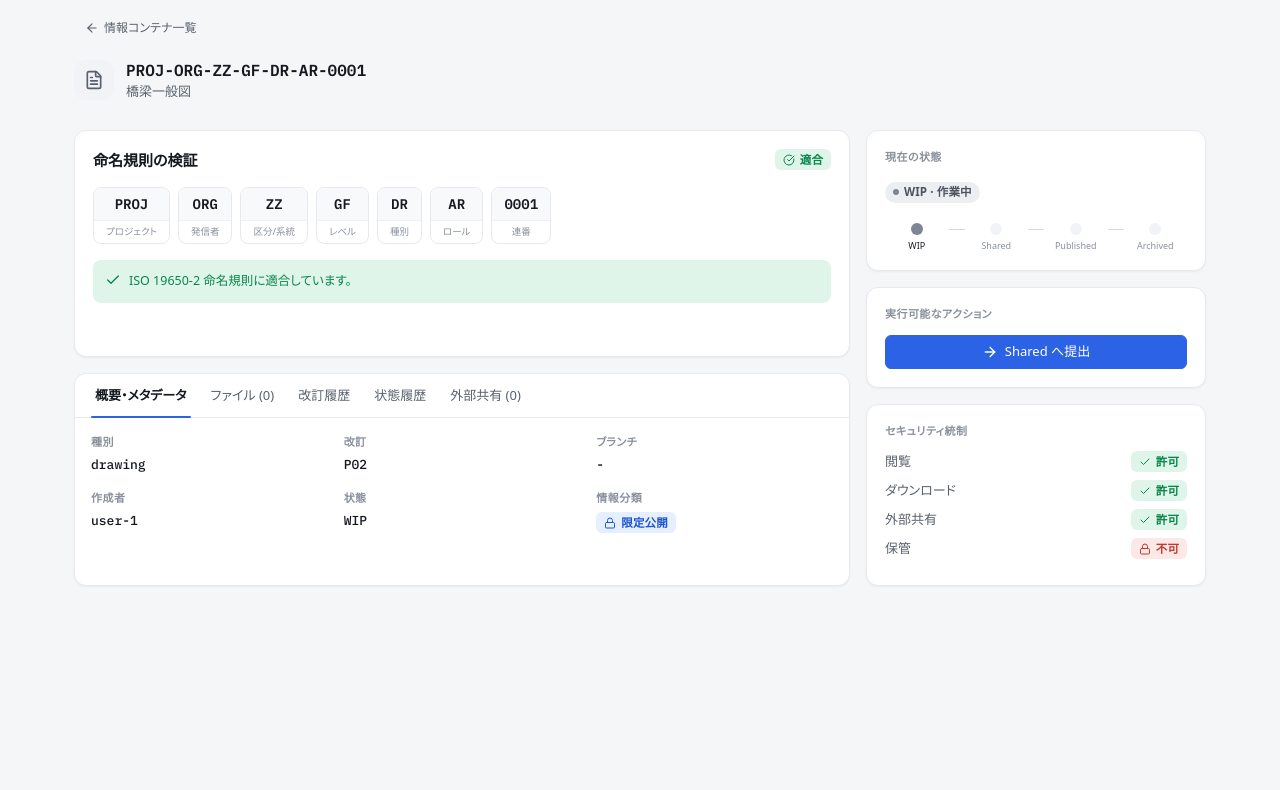
ContainerDetailPage - revision diff (Issue #52) › 改訂版比較UIから差分APIが呼ばれ、結果テーブルが表示される
Switch to the revisions tab.
Click the button "改訂履歴" at (324, 395), box [286,374,362,417]
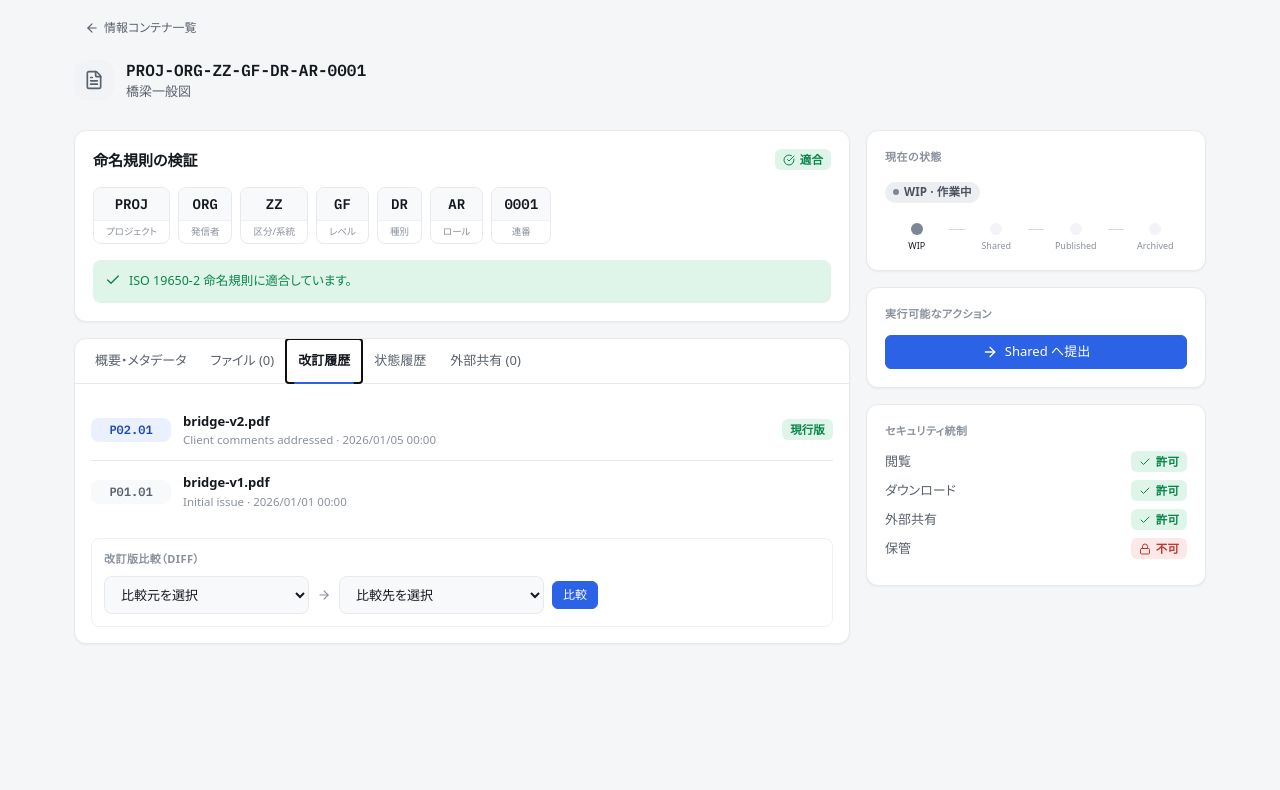
expect the text "改訂版比較（Diff）" is shown: met, box [104,551,199,566]
Select "P01.01 (2026/01/01 00:00)" in the dropdown named "比較元の改訂" at (206, 594), box [104,576,309,614]
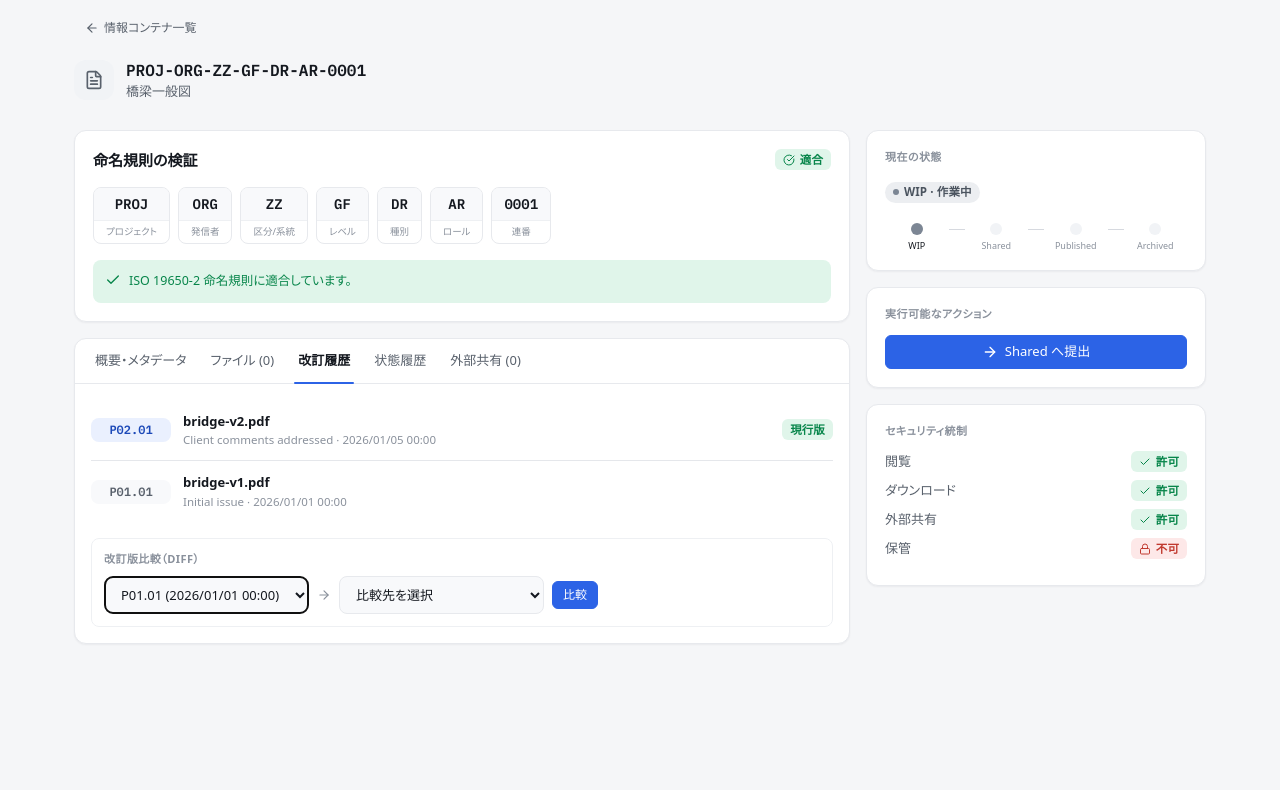
Select "P02.01 (2026/01/05 00:00)" in the dropdown named "比較先の改訂" at (442, 594), box [339,576,544,614]
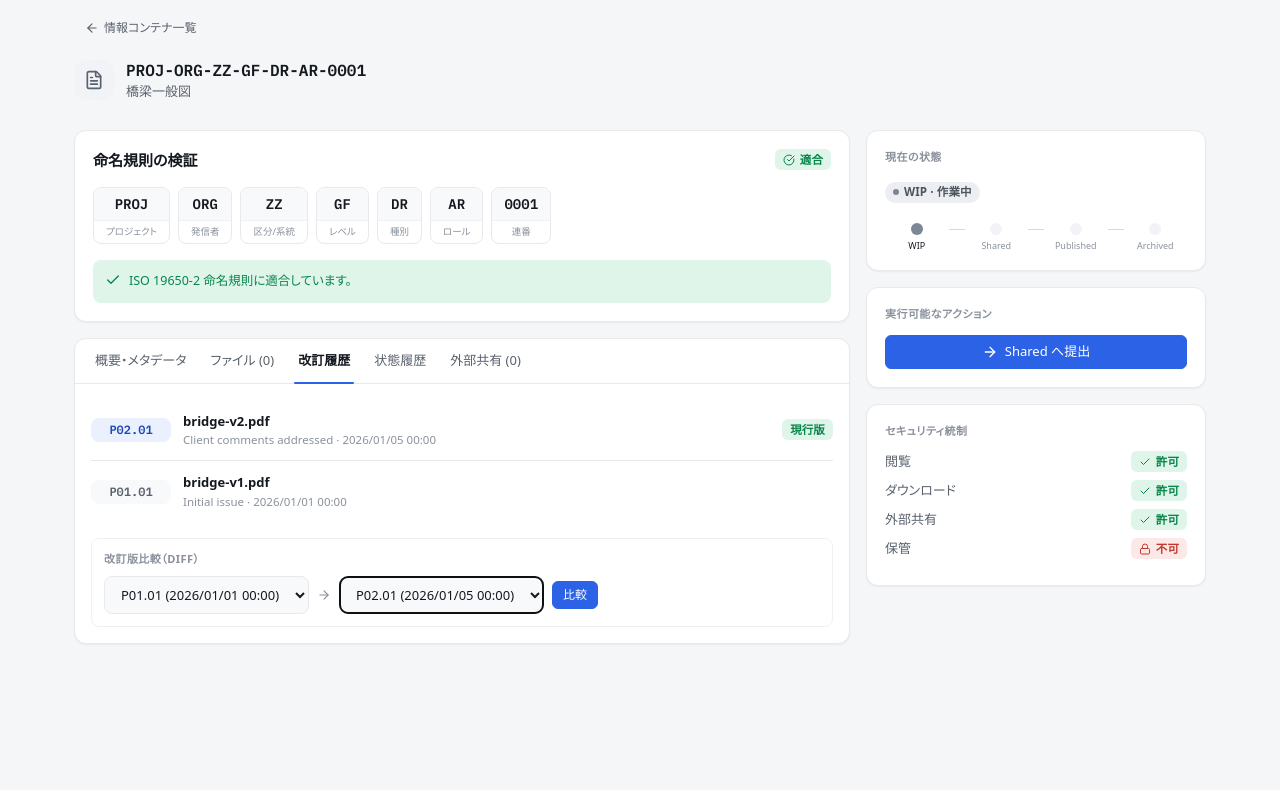
Click the button "比較" at (575, 594), box [552,580,598,608]
(page scrolled)
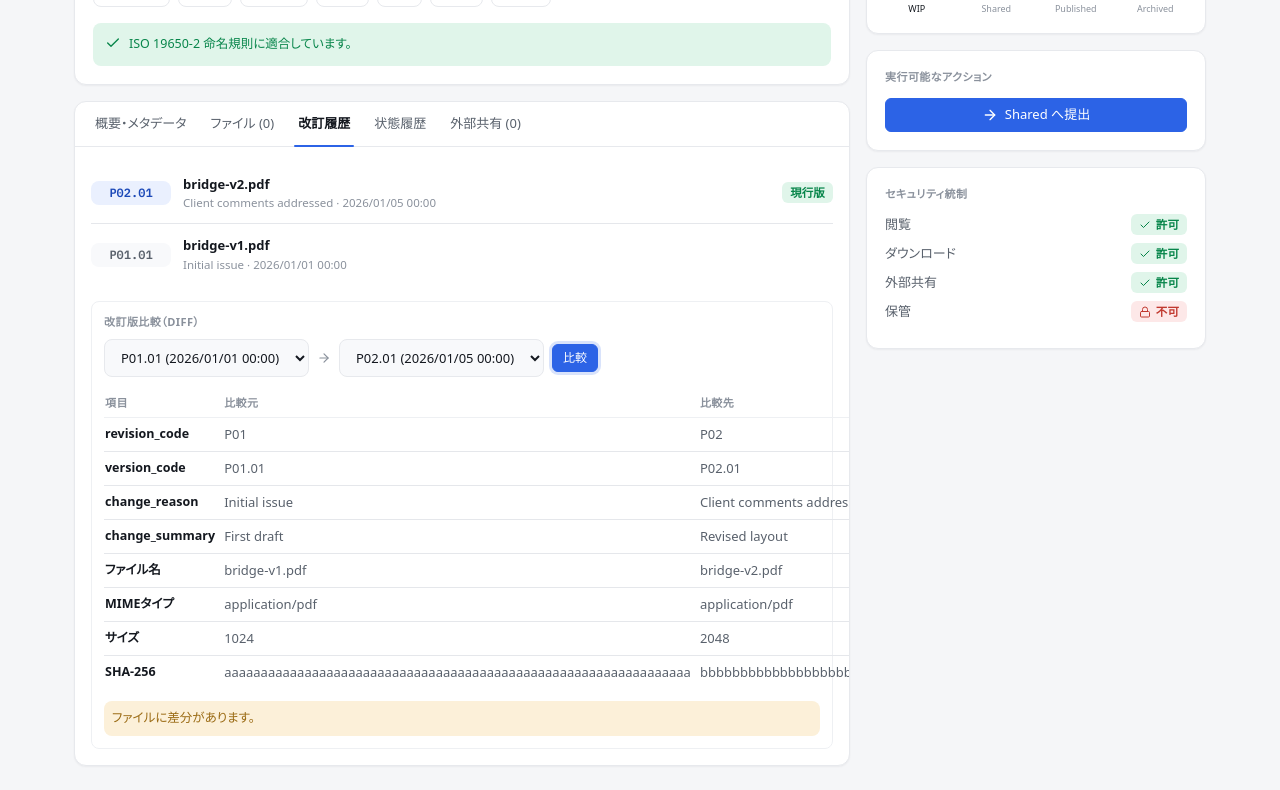
expect the text "ファイルに差分があります。" is shown: met, box [104,701,820,736]
